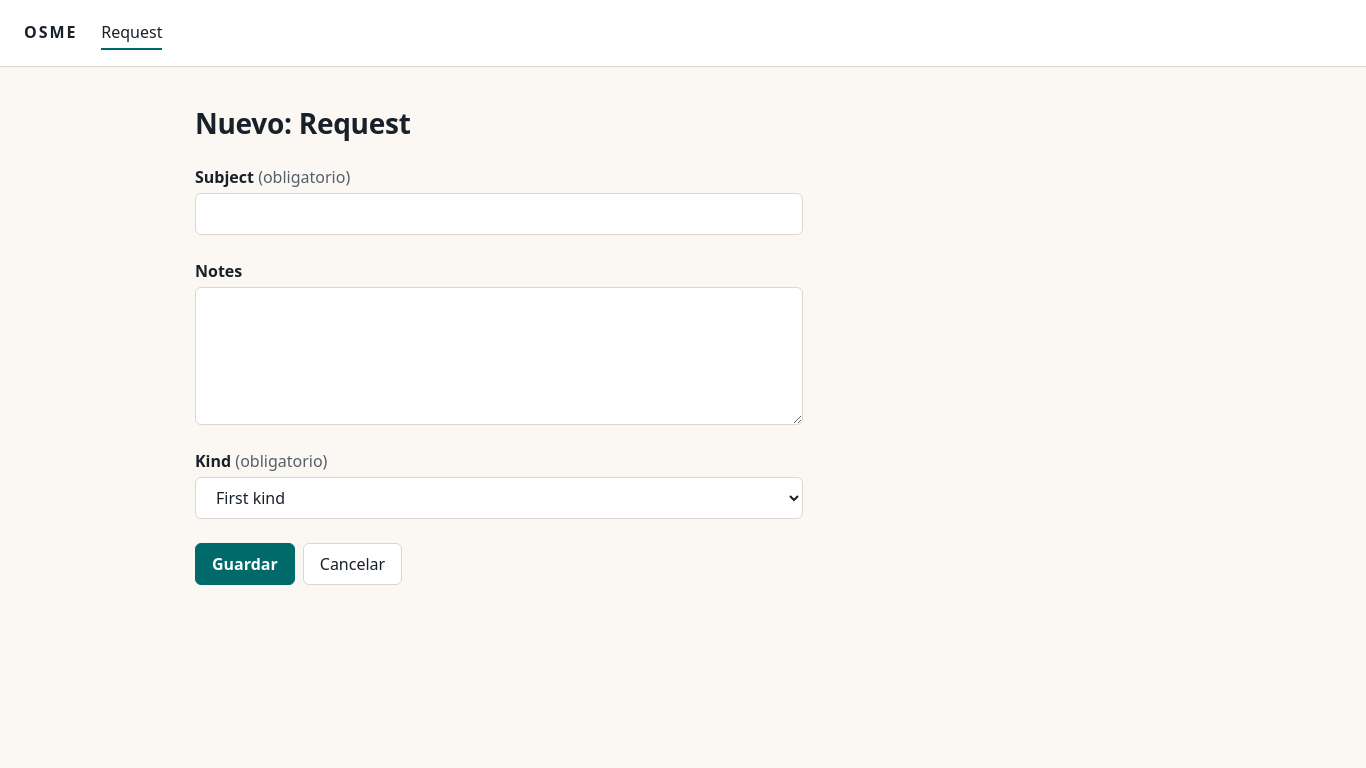
Test: when saving fails without a reason the form says so and can be sent again
Type "Kept" into the field labelled "Subject (obligatorio)".
click(499, 214); type("Kept")  # box [195,193,803,235]
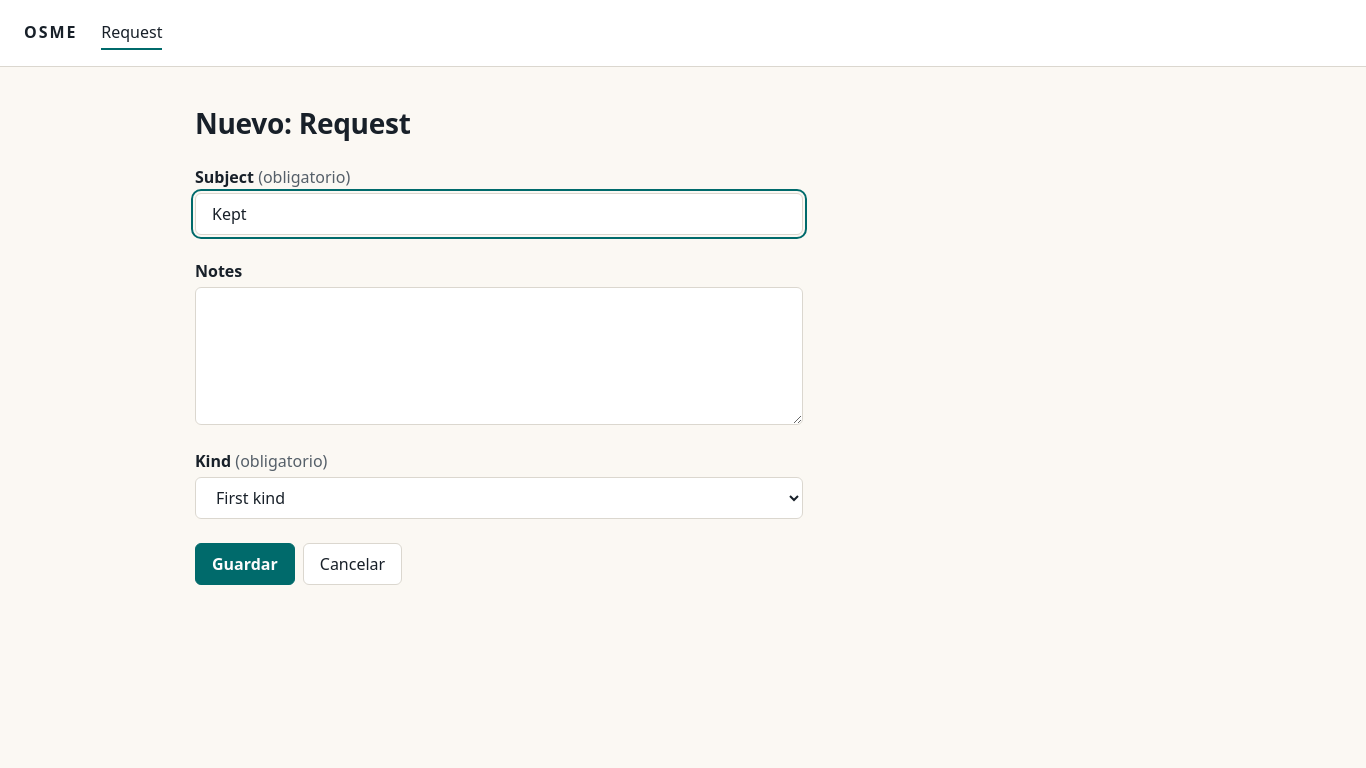
Click the button "Guardar".
click(245, 564)  # box [195,543,295,585]
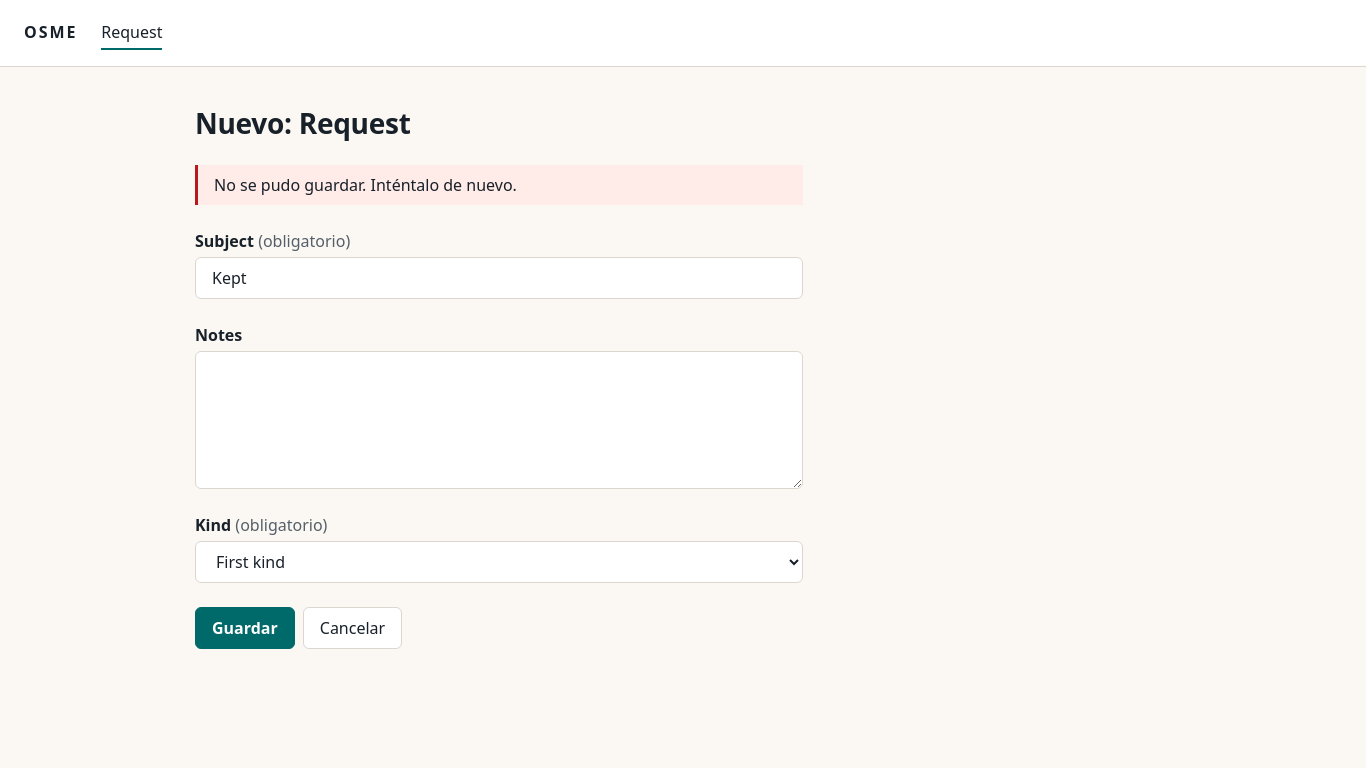
expect the button "Guardar" is enabled: met, box [195,607,295,649]
expect the message shows "No se pudo guardar": met, box [214,174,517,196]
